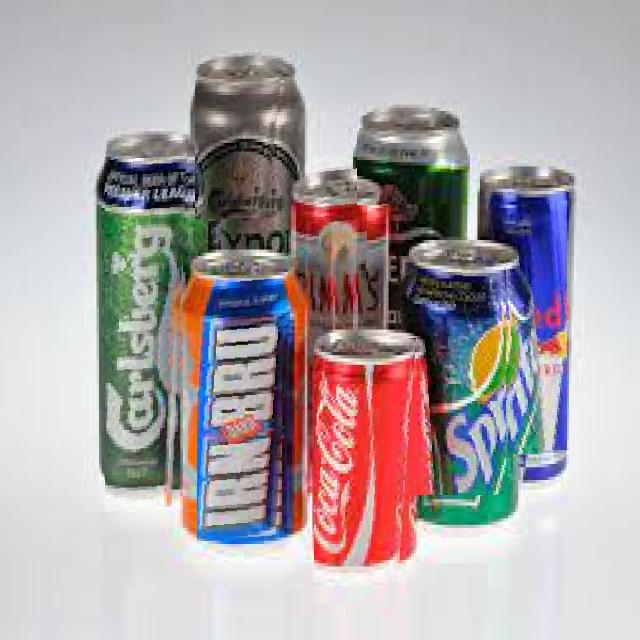Cans: (105, 139, 188, 511), (393, 251, 506, 495), (314, 338, 416, 604), (197, 279, 293, 543), (482, 185, 568, 454), (195, 39, 286, 220), (288, 158, 368, 302), (358, 97, 458, 205)
